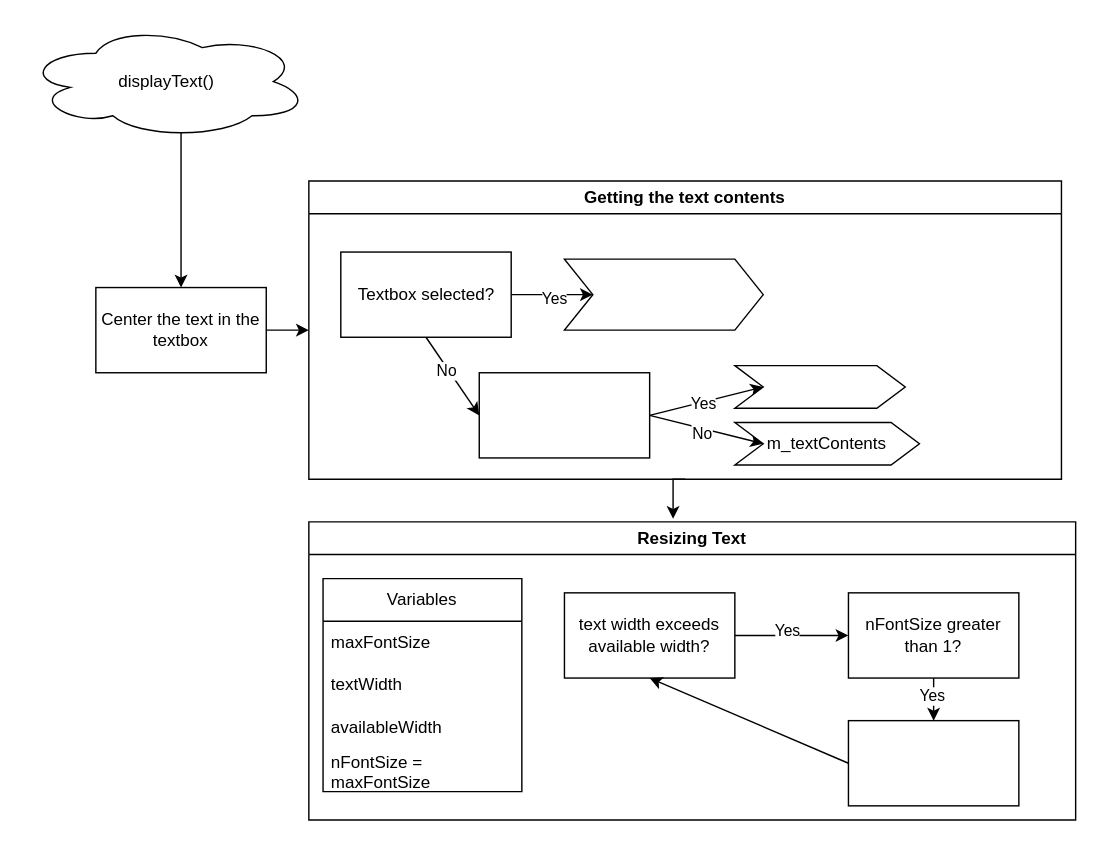
The diagram is 1101 pixels wide and 845 high, and some of its shapes have lost their labels. The shapes that lost their labels are listed below. From the top down, each one's centre as x and y in pixels, then its label:
At [663,294]: "m_textContents + tailChar".
At [819,386]: "Placeholder Text".
At [564,414]: "m_textContents empty?".
At [933,762]: "decrease nFontSize".
